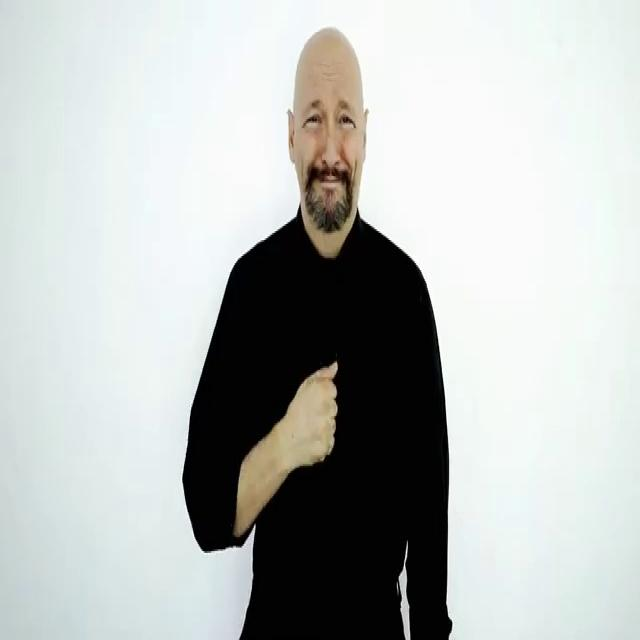sorry: (280, 359, 340, 477)
